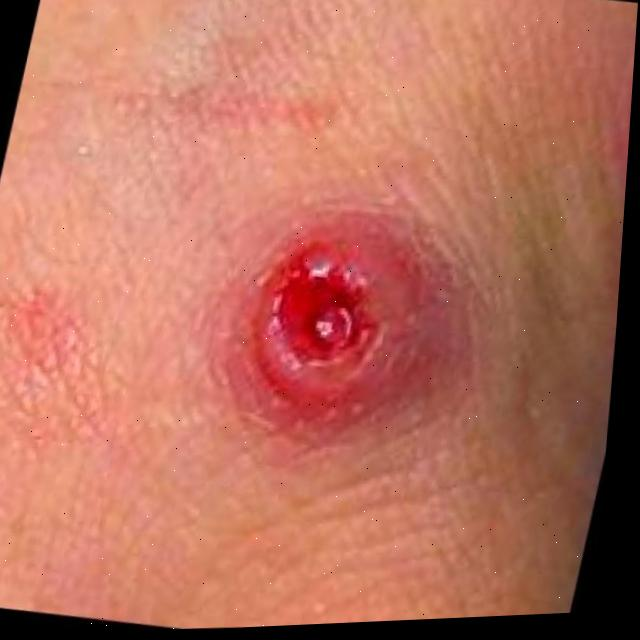Eczema: (239, 210, 374, 368)
